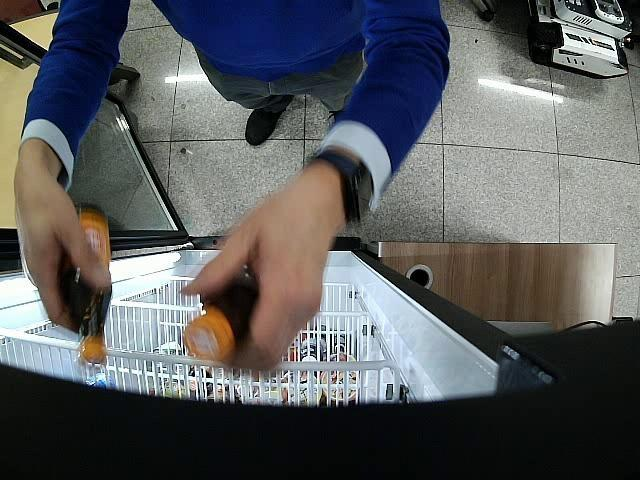17_vita500: (60, 202, 110, 365), (184, 274, 262, 358)
